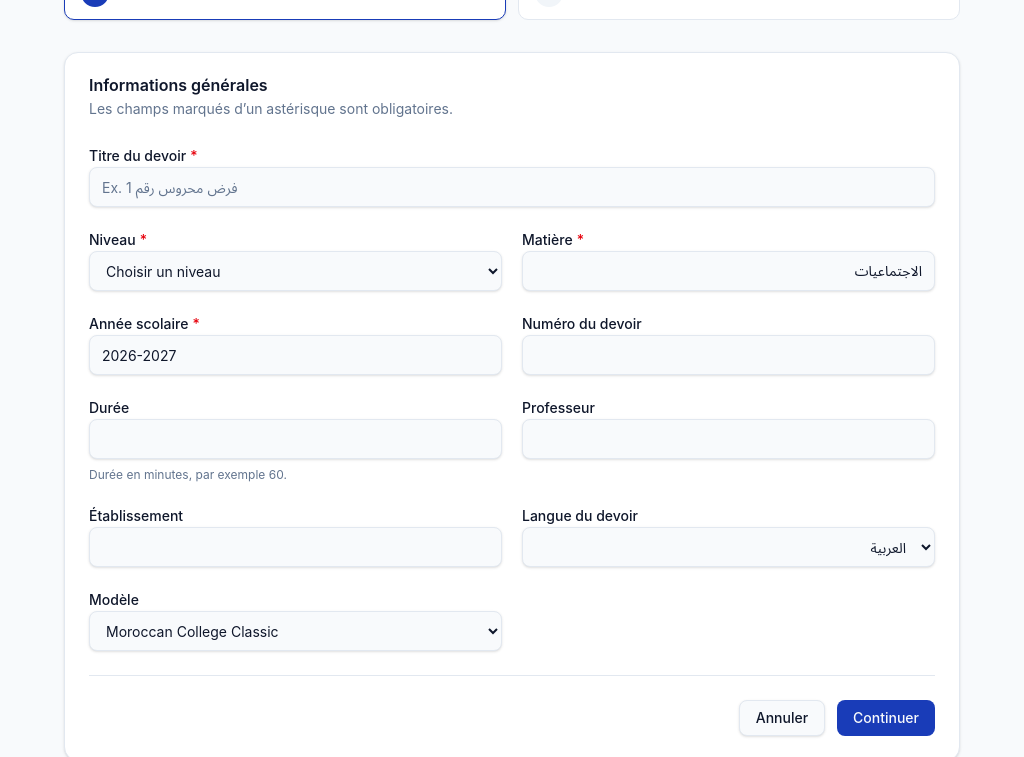
Test: NewExamPage › shows required errors and stays on Information
(page scrolled)
Click the button "Continuer" at (886, 718), box [837,700,935,736]
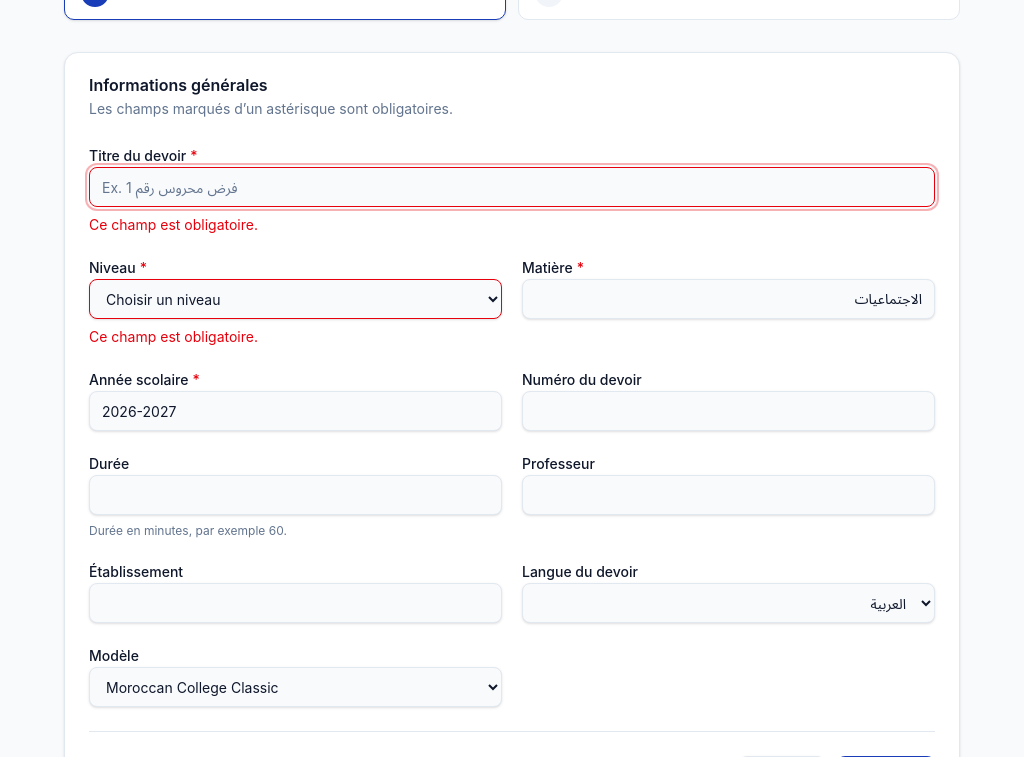
Expected: the heading "Informations générales" is shown, [89,75,268,95]
Expected: the text "Ce champ est obligatoire." is shown 2 times, [89,216,258,233]; [89,328,258,345]
